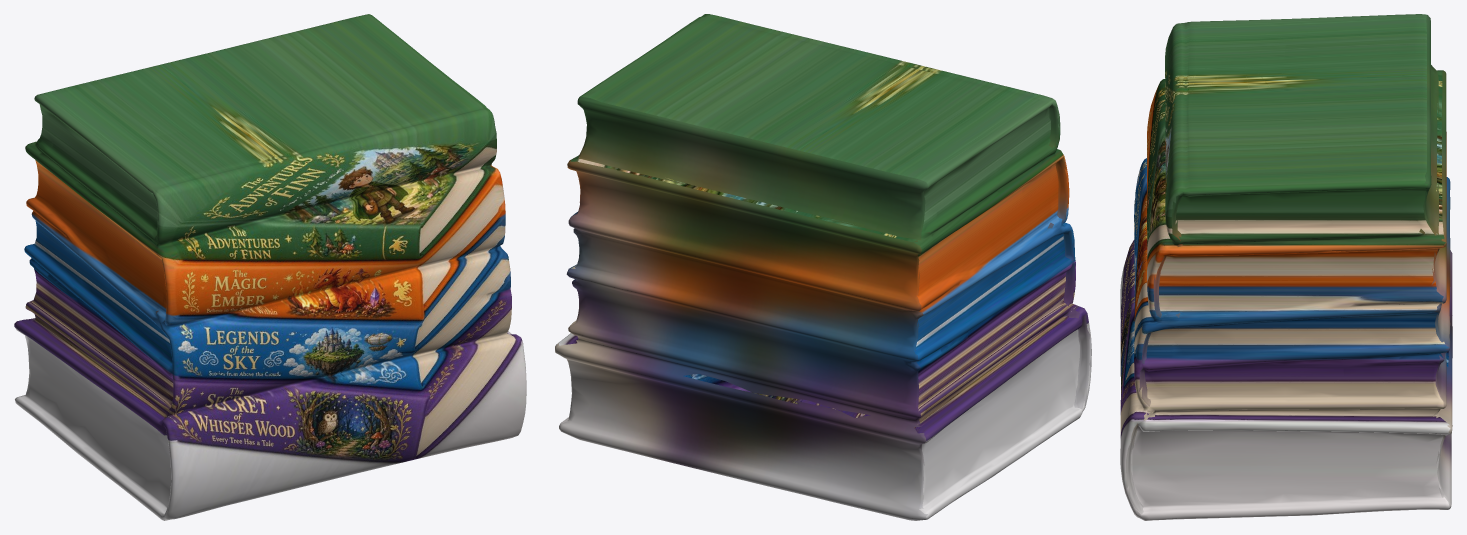
The model's file is book_stack.glb.
3 renders of one model, left to right at view 1: azimuth 30°, elevation 25°; view 2: azimuth 150°, elevation 25°; view 3: azimuth 270°, elevation 25°, orthographic. The views are drawn at different scales.
Visible parts, largest first — view 1: book_stack; view 2: book_stack; view 3: book_stack.
Boxes of the visible parts, x1,y1,x2,y2 form: book_stack: (14, 14, 526, 520); book_stack: (555, 14, 1091, 520); book_stack: (1120, 14, 1452, 520).
Bounding box in the file's own units: 7 × 6.11 × 5.47.
1 material, 1 textured.
